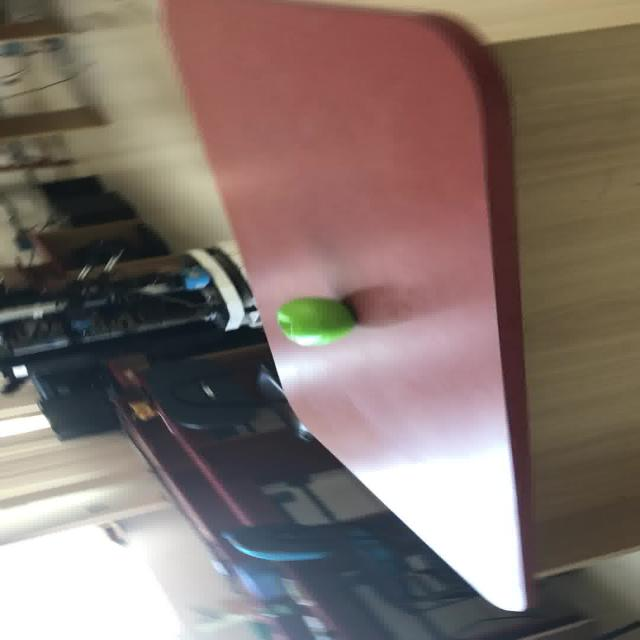apple: (274, 296, 356, 346)
